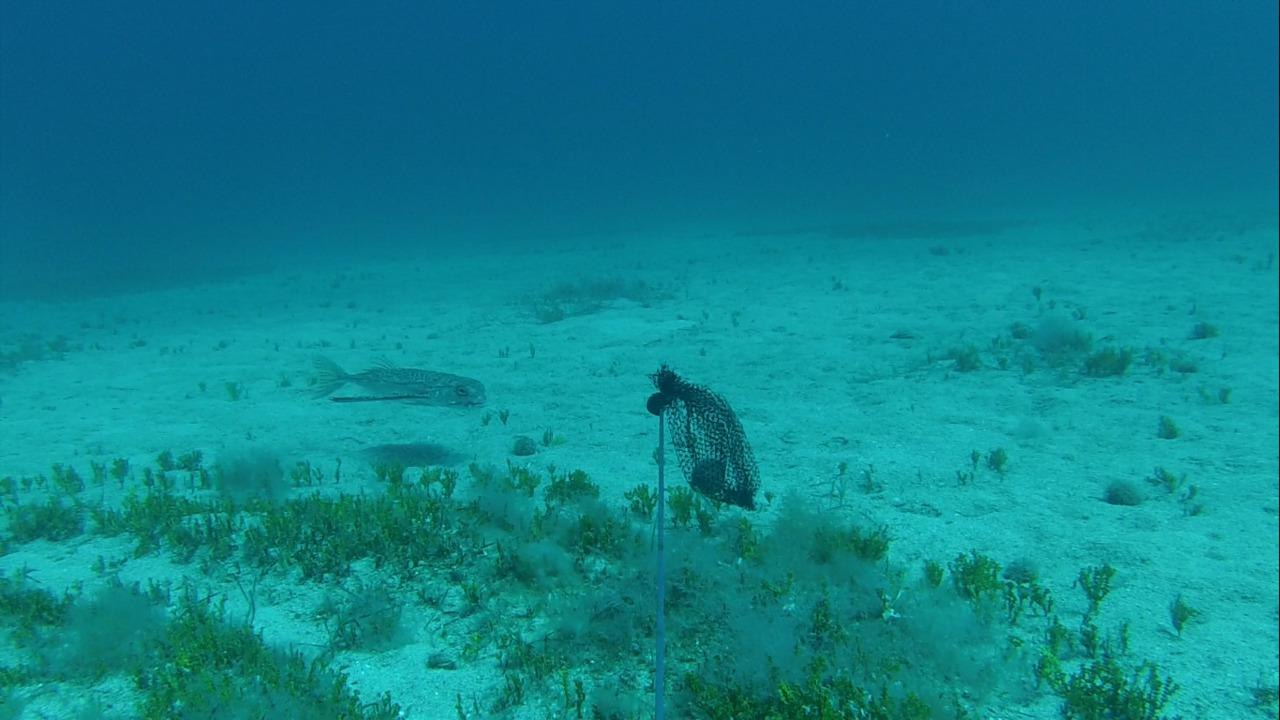dactylopterus: (306, 353, 489, 419)
